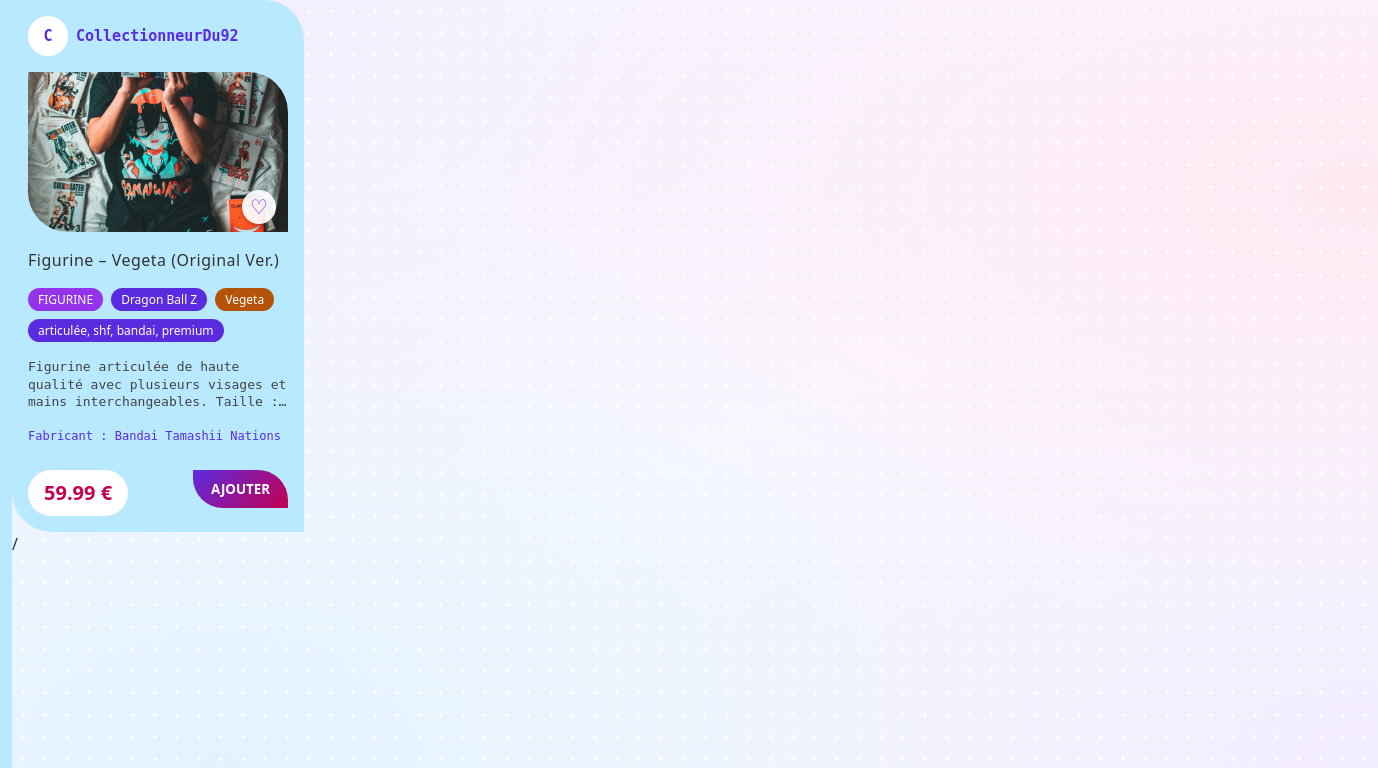
Scenario: ProductCard › envoie un visiteur vers la connexion quand il clique sur le cœur
The width and height of the screenshot is (1378, 768).
Click the button named "Ajouter aux favoris".
click(259, 207)  # box [242,190,276,224]
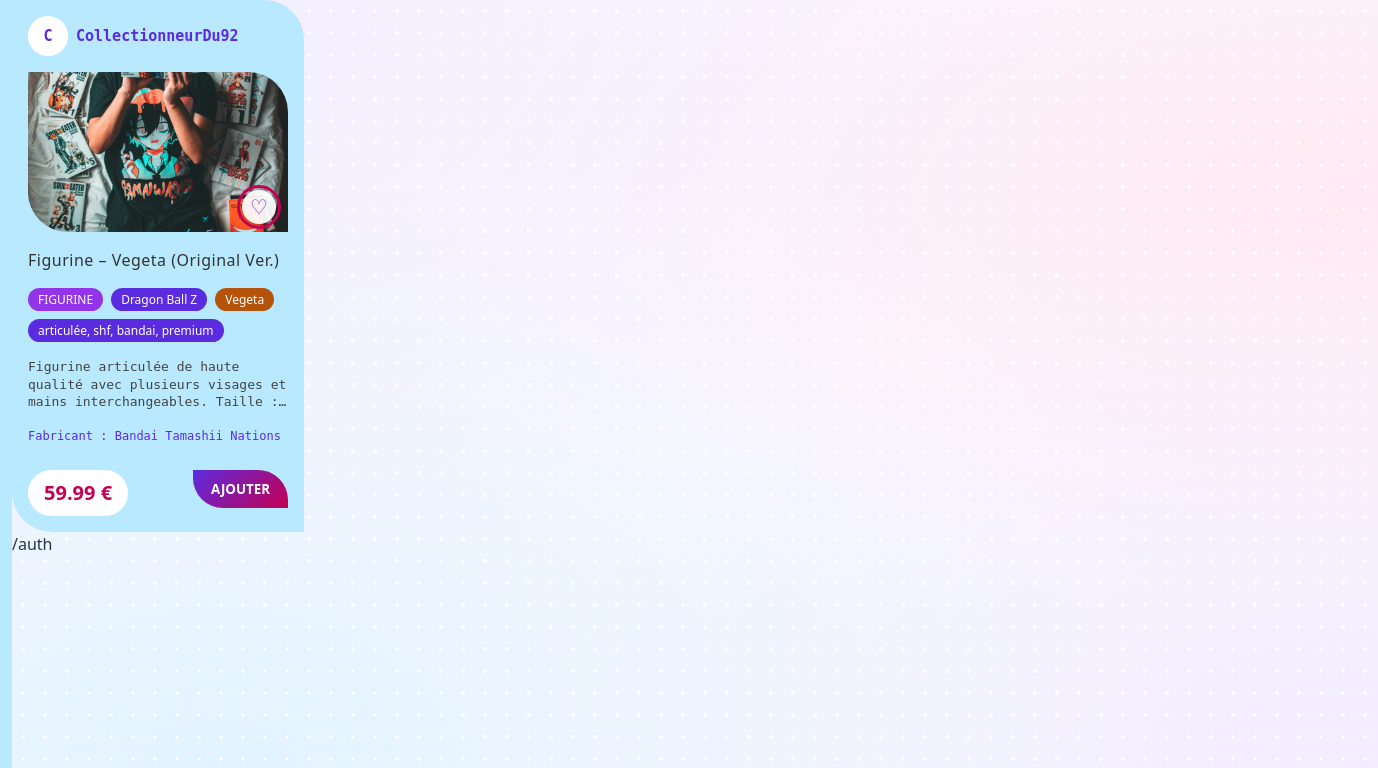
Result: the text with test id "current-location" reads "/auth" at [12,533,52,555]
